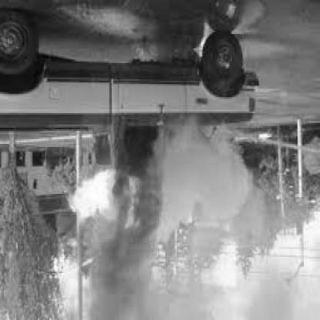Fire: (68, 159, 150, 249)
